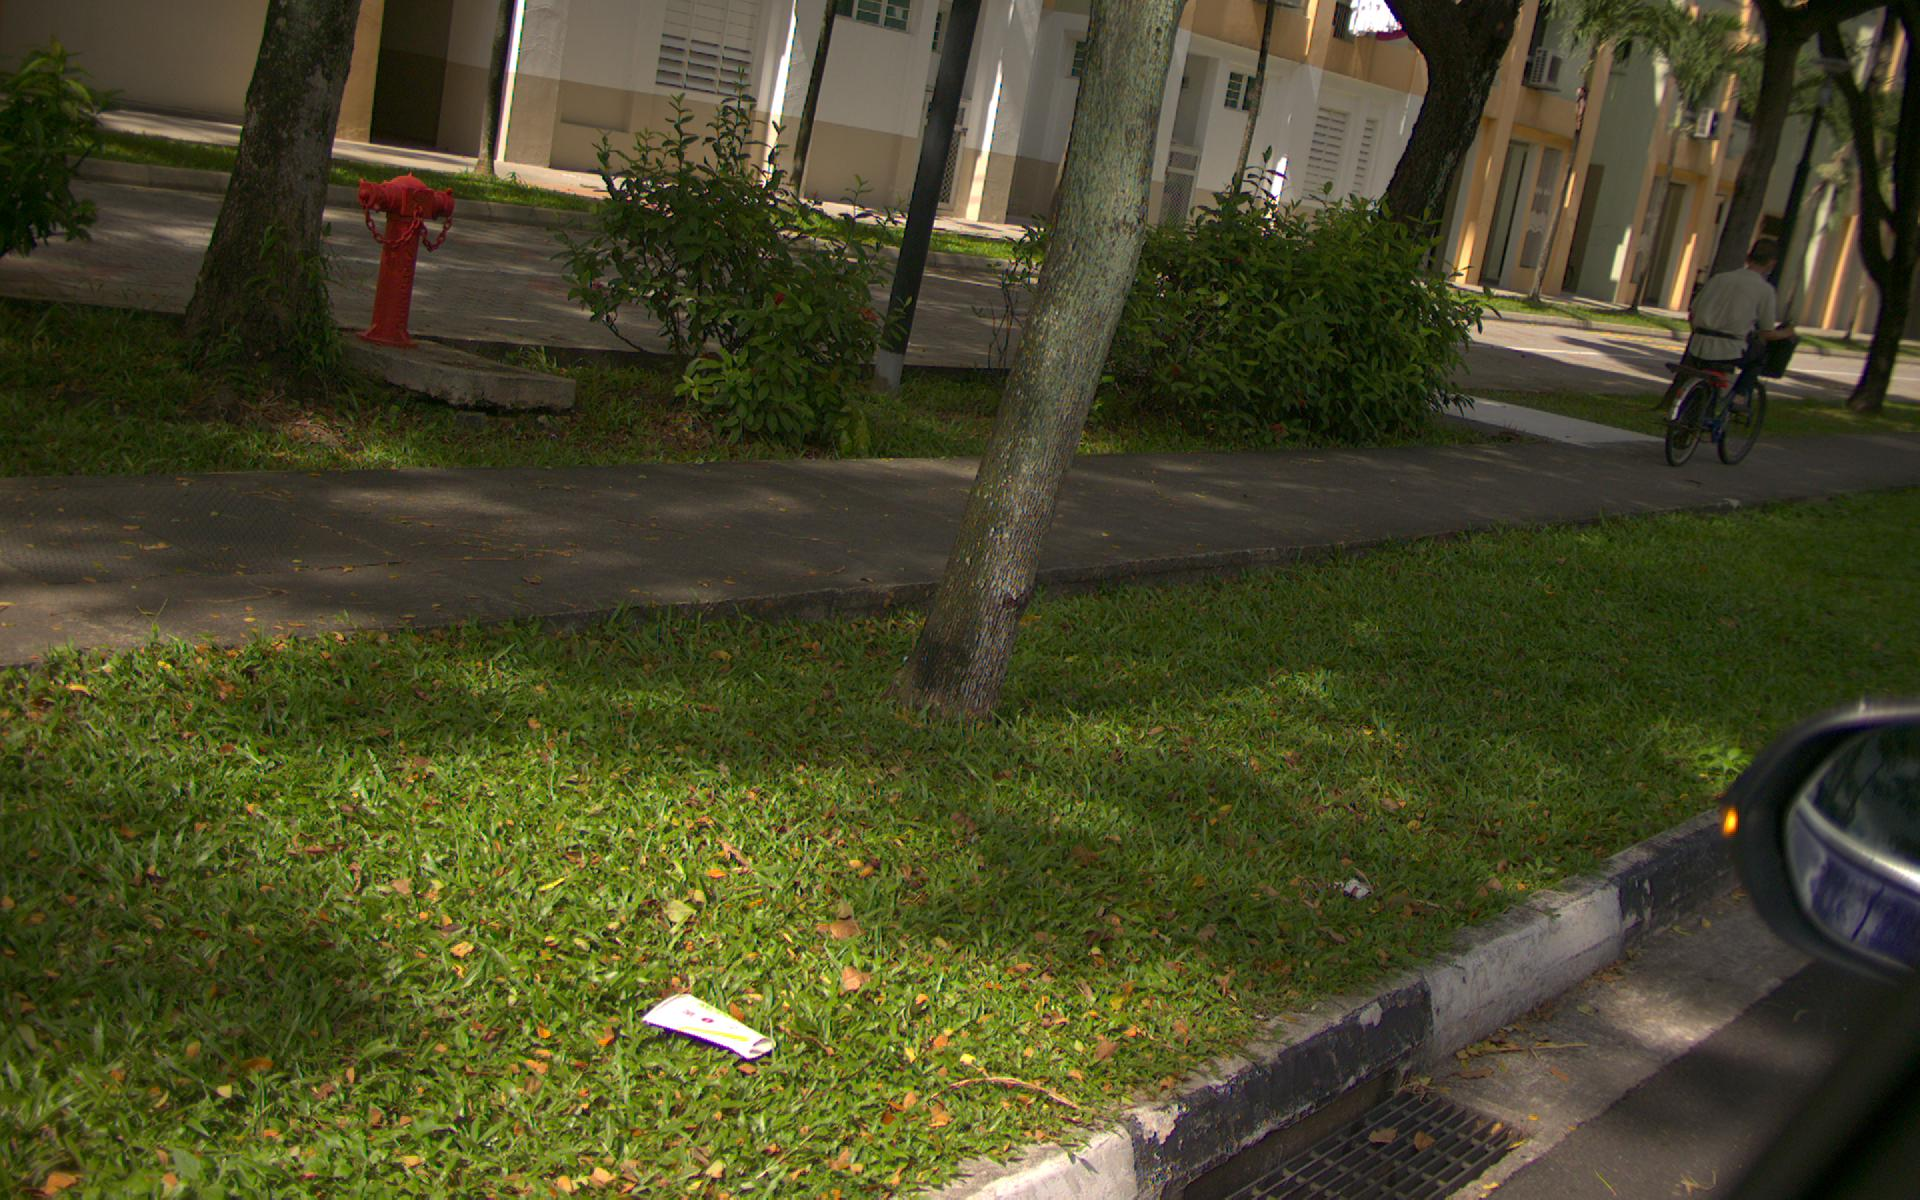curb_dic_low: (1167, 993, 1547, 1200)
pathway_low: (6, 482, 969, 606)
road_turf_low: (6, 684, 1006, 1192), (8, 348, 1357, 453), (1086, 586, 1656, 832)
